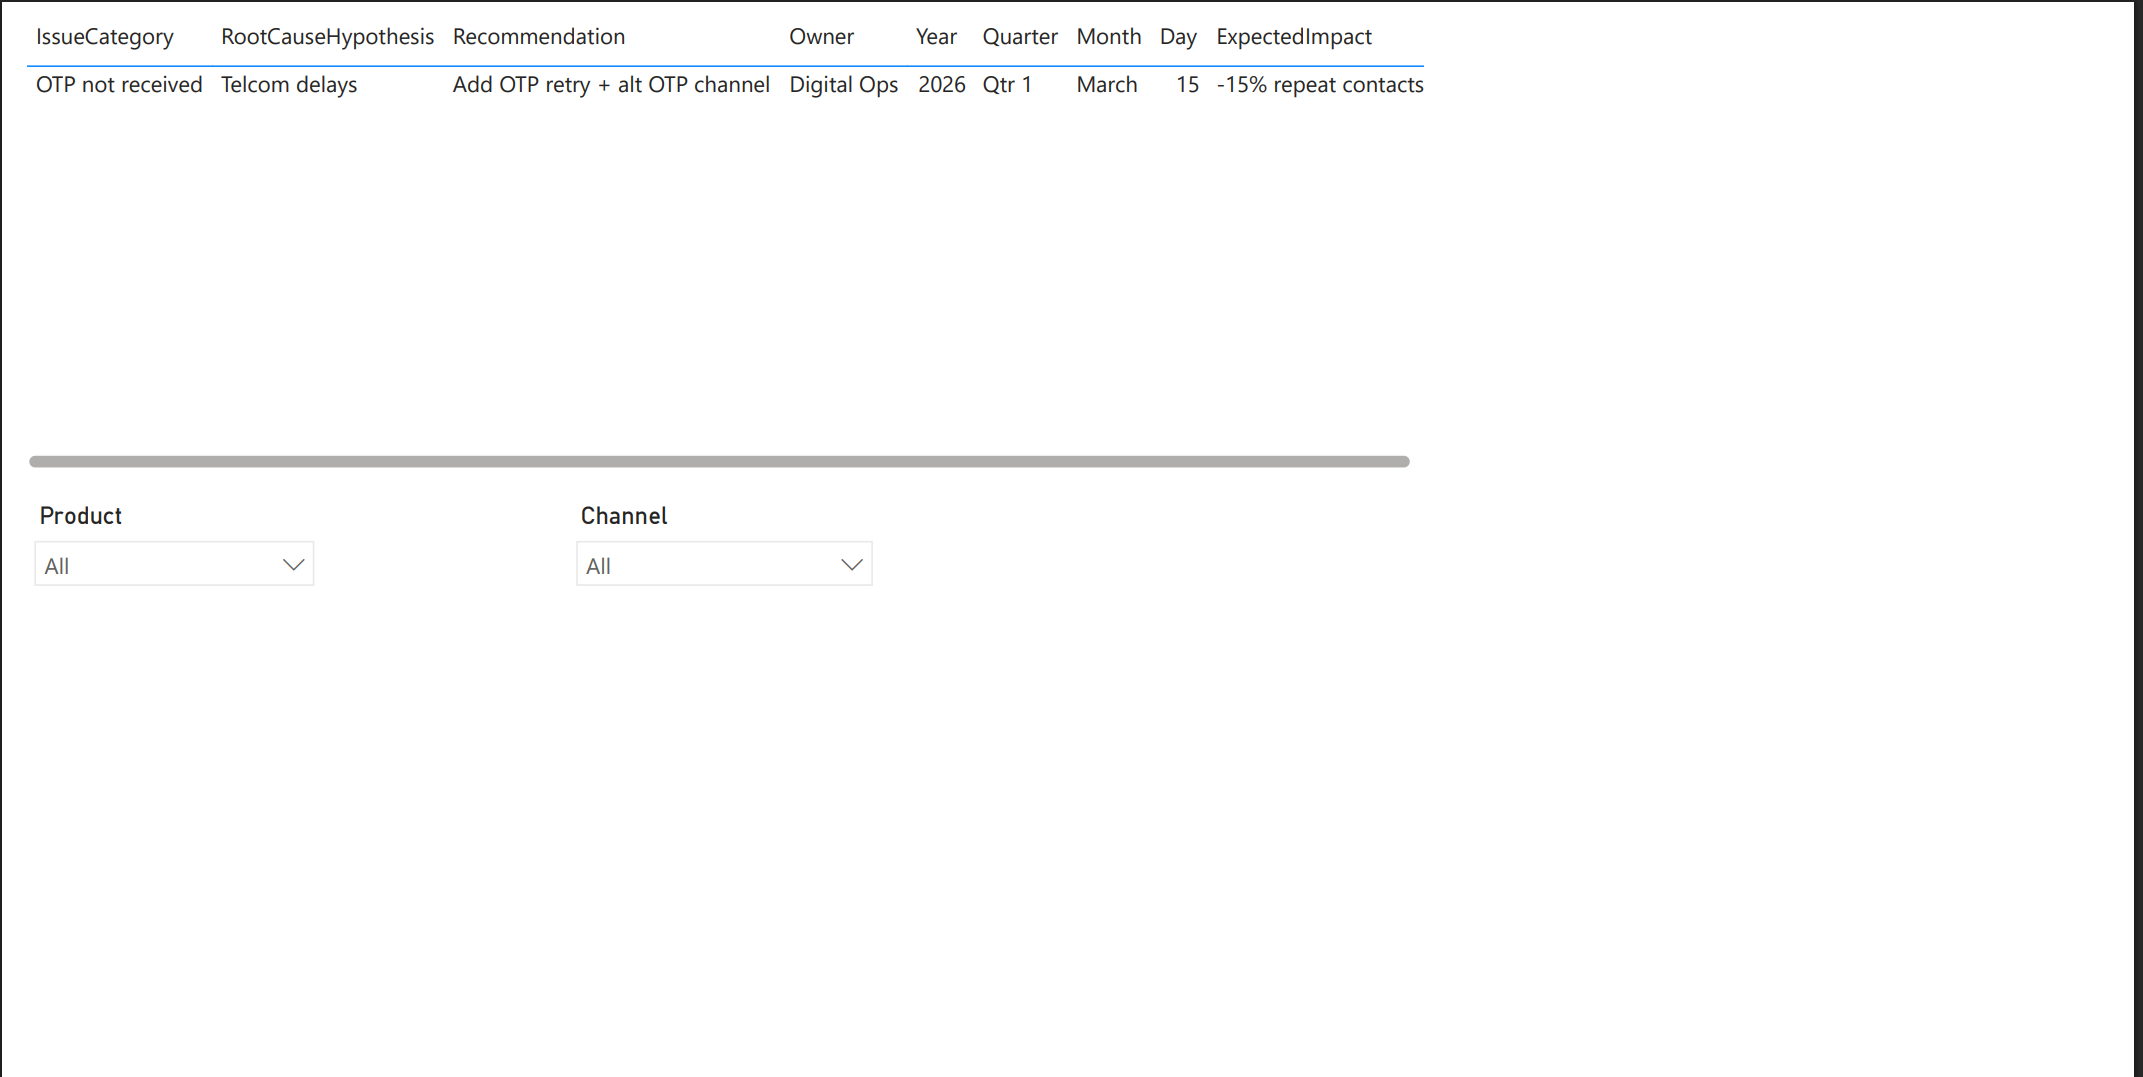

What the dashboard file says about the page in this screenshot:
{"tool":"powerbi","page":{"name":"Action Tracker","canvas":[1280,720],"ordinal":3},"visuals":[{"type":"tableEx","fields":{"Values":["Action_Tracker.IssueCategory","Action_Tracker.RootCauseHypothesis","Action_Tracker.Recommendation","Action_Tracker.Owner","Action_Tracker.ETA.Variation.Date Hierarchy.Year","Action_Tracker.ETA.Variation.Date Hierarchy.Quarter","Action_Tracker.ETA.Variation.Date Hierarchy.Month","Action_Tracker.ETA.Variation.Date Hierarchy.Day","Action_Tracker.ExpectedImpact"]},"box":[10,0,848.3,280],"z":0},{"type":"slicer","fields":{"Values":["Action_Tracker.Product"]},"box":[10,290,188.3,108.3],"z":1},{"type":"slicer","fields":{"Values":["Action_Tracker.Channel"]},"box":[335,290,198.3,91.7],"z":2}]}

Visuals, with their boxes on the page's 1280x720 design canvas (x1, y1, x2, y2). These are canvas units, not pixel positions in the 2143x1077 screenshot, which may show the page scaled, cropped or inside an application window:
tableEx - Action_Tracker.IssueCategory x Action_Tracker.RootCauseHypothesis: (10, 0, 858, 280)
slicer - Action_Tracker.Product: (10, 290, 198, 398)
slicer - Action_Tracker.Channel: (335, 290, 533, 382)
